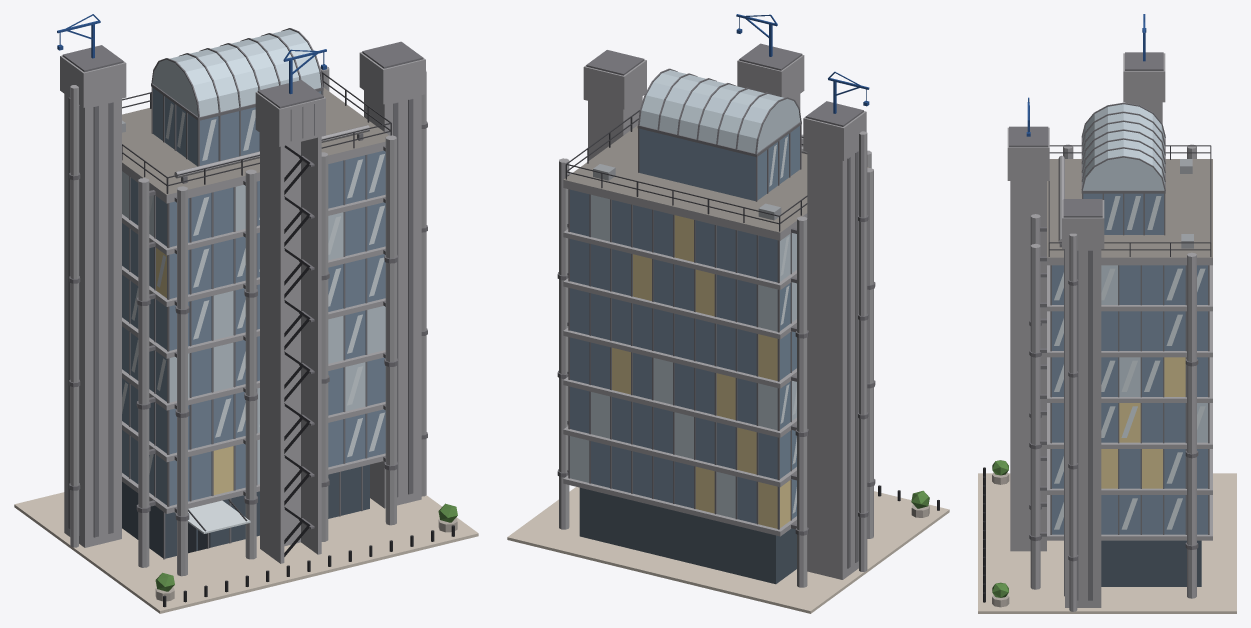
Rendered from OfisKulesi_karisik_1_1_Hafif.fbx.
3 renders of one model, left to right at view 1: azimuth 30°, elevation 25°; view 2: azimuth 150°, elevation 25°; view 3: azimuth 270°, elevation 25°, orthographic. The views are drawn at different scales.
Visible parts, largest first — view 1: OfisKulesi_karisik_1_1_Hafif; view 2: OfisKulesi_karisik_1_1_Hafif; view 3: OfisKulesi_karisik_1_1_Hafif.
Part boxes in pixels (x1=…): OfisKulesi_karisik_1_1_Hafif: x1=14, y1=14, x2=478, y2=613; OfisKulesi_karisik_1_1_Hafif: x1=507, y1=14, x2=949, y2=613; OfisKulesi_karisik_1_1_Hafif: x1=978, y1=14, x2=1236, y2=613.
Bounding box in the file's own units: 24.01 × 36.5 × 18.4.
